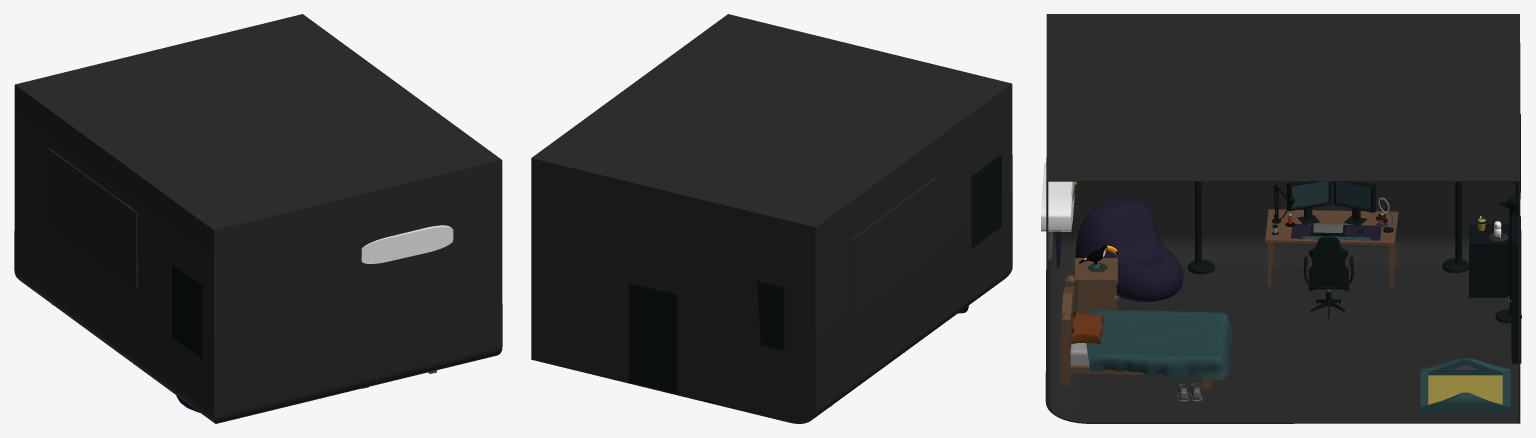
File: Eco Streamer Estudio.fbx
3 views of the same model, side by side, from view 1: azimuth 30°, elevation 25°; view 2: azimuth 150°, elevation 25°; view 3: azimuth 270°, elevation 25° (orthographic). The views are drawn at different scales.
Parts seen in each view (by area): view 1: Cube, Cube.003, Cube.022, Cube.002; view 2: Cube, Cube.003, Cube.045, Cube.022, Cube.012; view 3: Cube, Lençol, Cube.017, Cube.021, Cube.015, Cube.001, Cube.019, Cube.005, Cube.014, Cube.002, Cube.045, Cube.009 (+7 smaller).
Boxes of the visible parts, bbox=[...] form: Cube: bbox=[14, 14, 502, 423]; Cube.003: bbox=[47, 148, 138, 289]; Cube.022: bbox=[172, 264, 202, 359]; Cube.002: bbox=[361, 225, 453, 263]; Cube: bbox=[531, 14, 1012, 423]; Cube.003: bbox=[850, 176, 938, 315]; Cube.045: bbox=[629, 283, 677, 393]; Cube.022: bbox=[971, 154, 1001, 248]; Cube.012: bbox=[757, 281, 784, 350]; Cube: bbox=[1045, 14, 1520, 423]; Lençol: bbox=[1086, 310, 1232, 380]; Cube.017: bbox=[1075, 197, 1183, 301]; Cube.021: bbox=[1420, 358, 1510, 412]; Cube.015: bbox=[1265, 209, 1398, 288]; Cube.001: bbox=[1469, 224, 1509, 297]; Cube.019: bbox=[1303, 236, 1353, 318]; Cube.005: bbox=[1287, 181, 1375, 212]; Cube.014: bbox=[1074, 258, 1119, 314]; Cube.002: bbox=[1041, 163, 1074, 231]; Cube.045: bbox=[1508, 216, 1521, 363]; Cube.009: bbox=[1060, 275, 1211, 389].
Bounding box in the file's own units: 883 × 615 × 1068.
